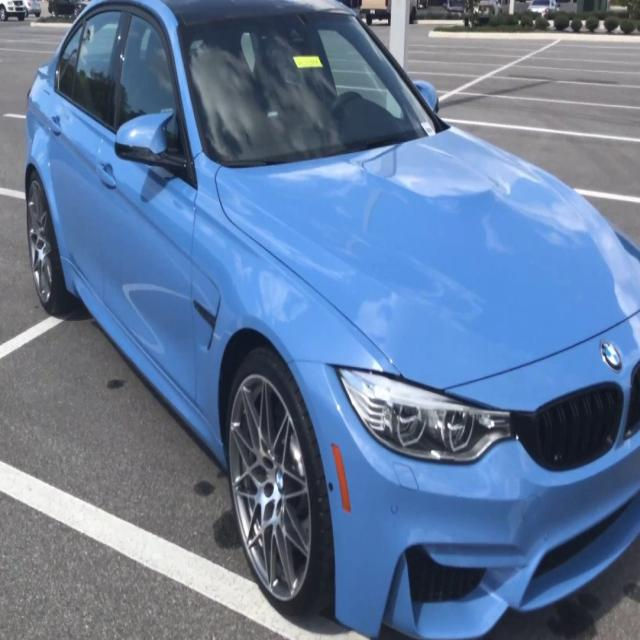blue: (22, 7, 640, 640)
